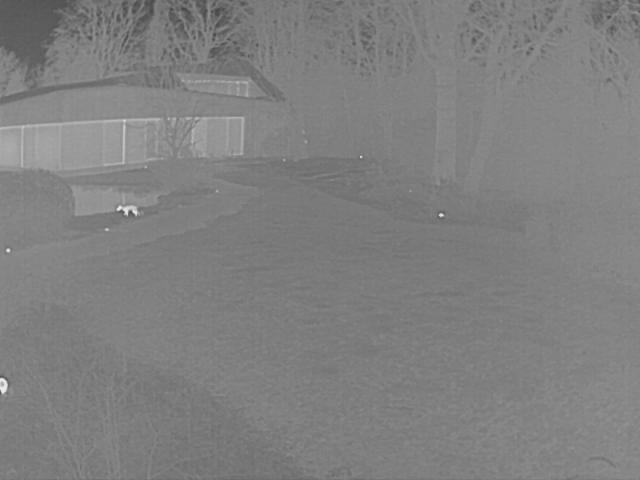dog: (116, 203, 144, 218)
